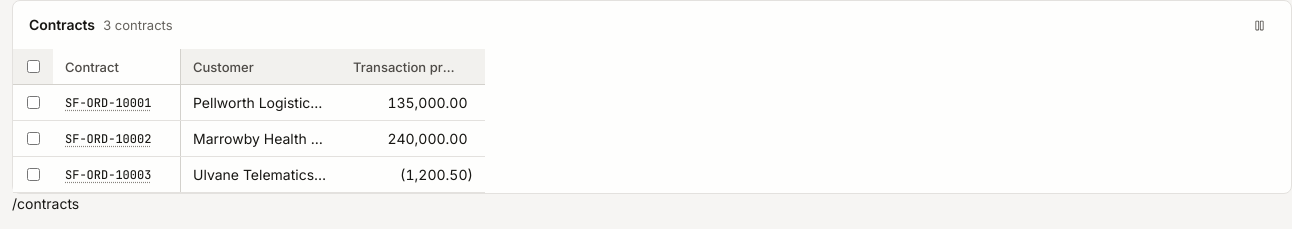
Test case: REQ-UX-009 keyboard › Enter on an identifier opens the record
The image size is (1292, 229).
Press the mouse on the element "SF-ORD-10002" at (117, 138), box [53, 121, 181, 156]
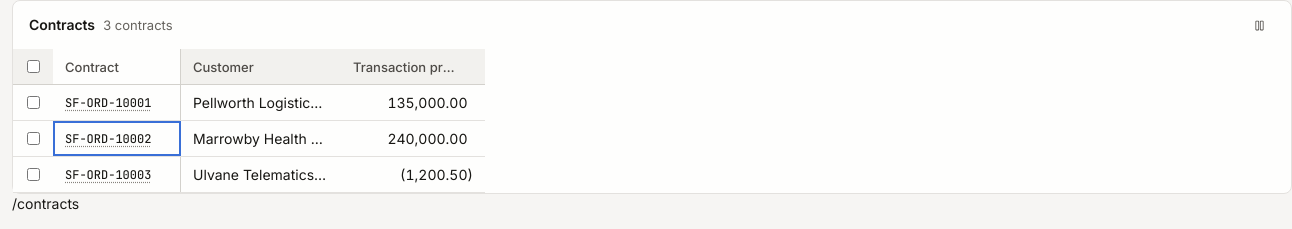
Press Enter in the element "SF-ORD-10002", box [53, 121, 181, 156]
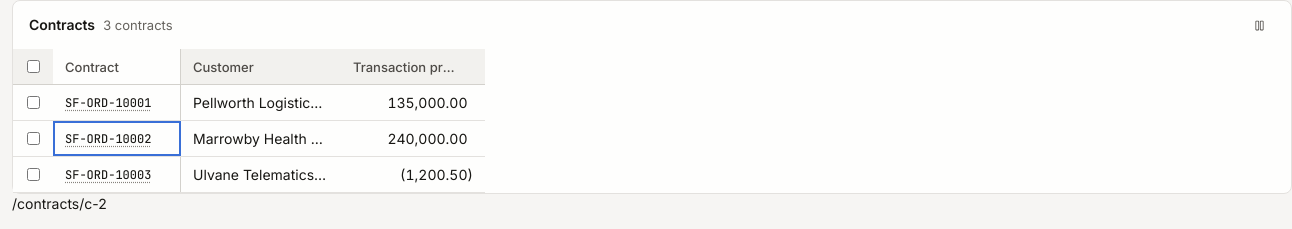
Expected: the text with test id "location" reads "/contracts/c-2", [12, 195, 107, 212]
